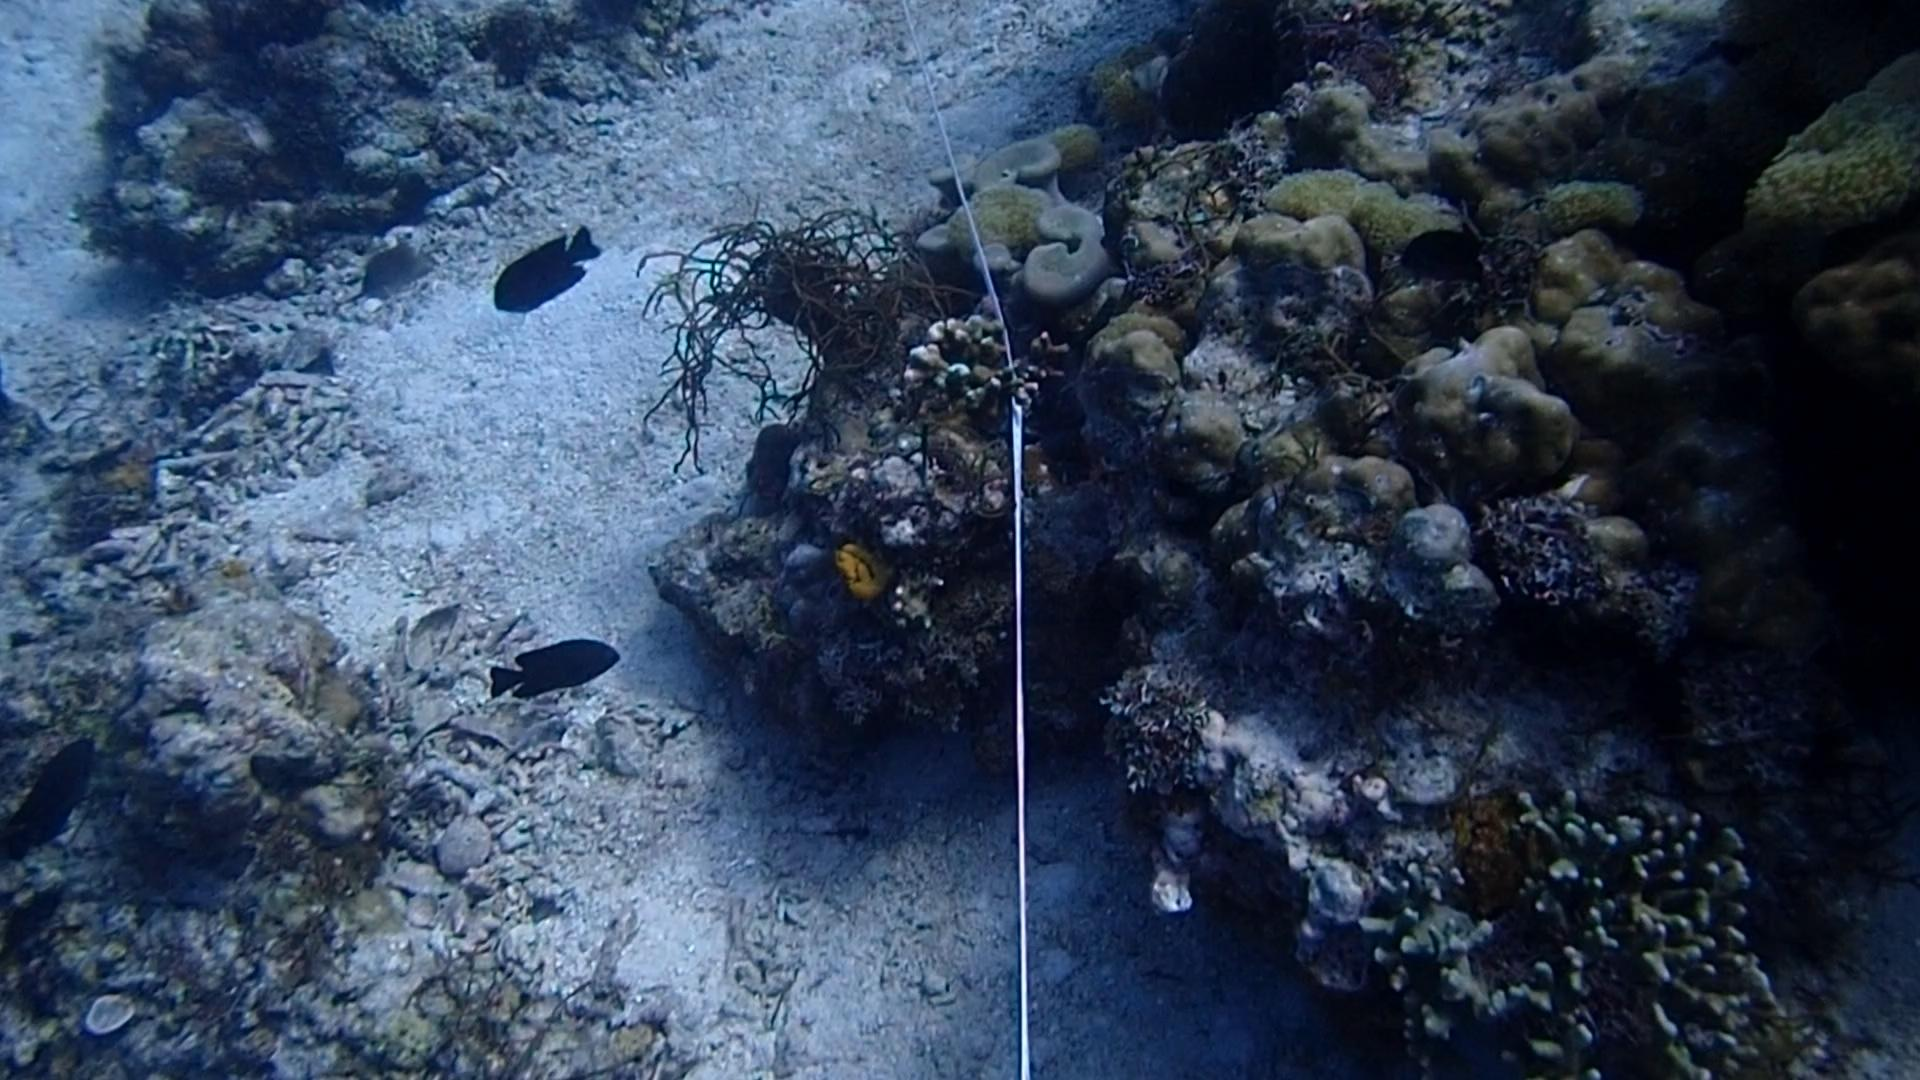Dark Fish: (484, 215, 605, 328), (0, 731, 107, 855), (502, 612, 632, 707), (0, 870, 79, 969)
Light Fish: (351, 233, 435, 311)
